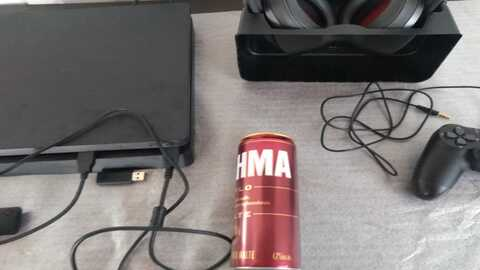duplo_malte: (230, 138, 298, 266)
